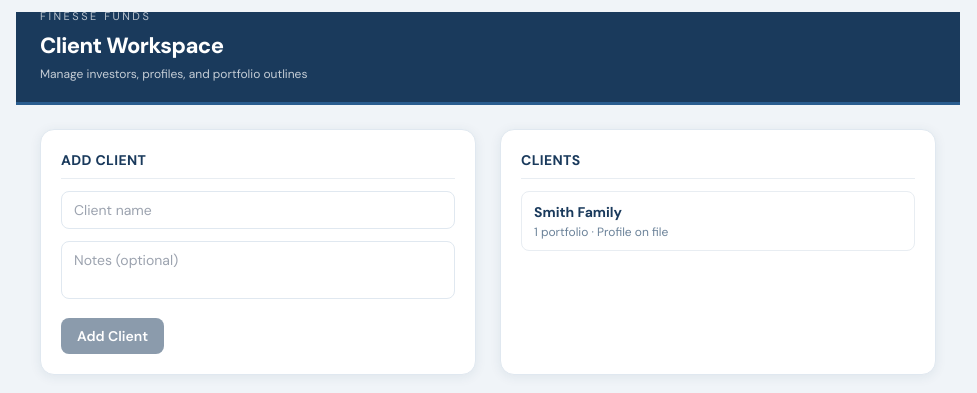
ClientsPage › creates a client and shows it in the list
Expected: the text "Smith Family" is shown, [534, 202, 622, 220]
Type "New Investor" into the field with placeholder "Client name" at (258, 210), box [61, 190, 455, 228]
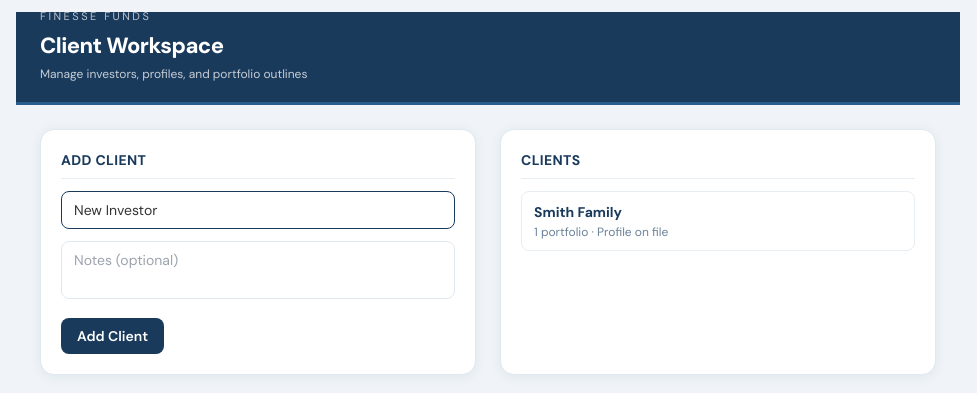
Click the button "Add Client" at (113, 336), box [61, 318, 164, 354]
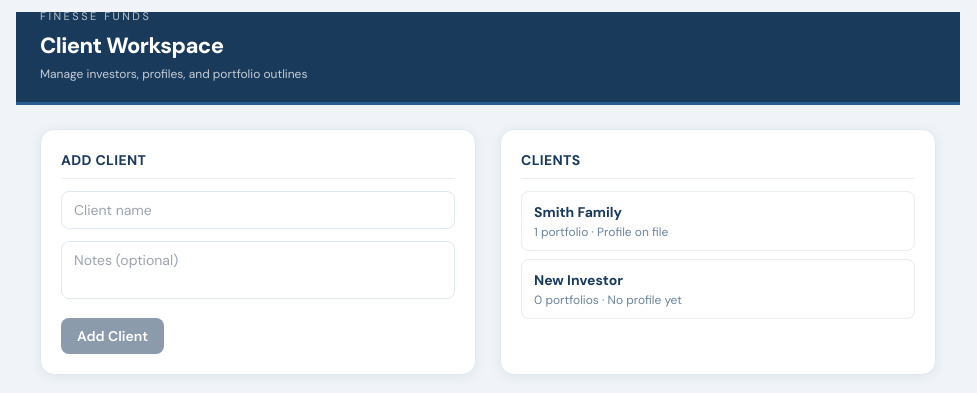
Result: the text "New Investor" is shown at [534, 270, 623, 288]
